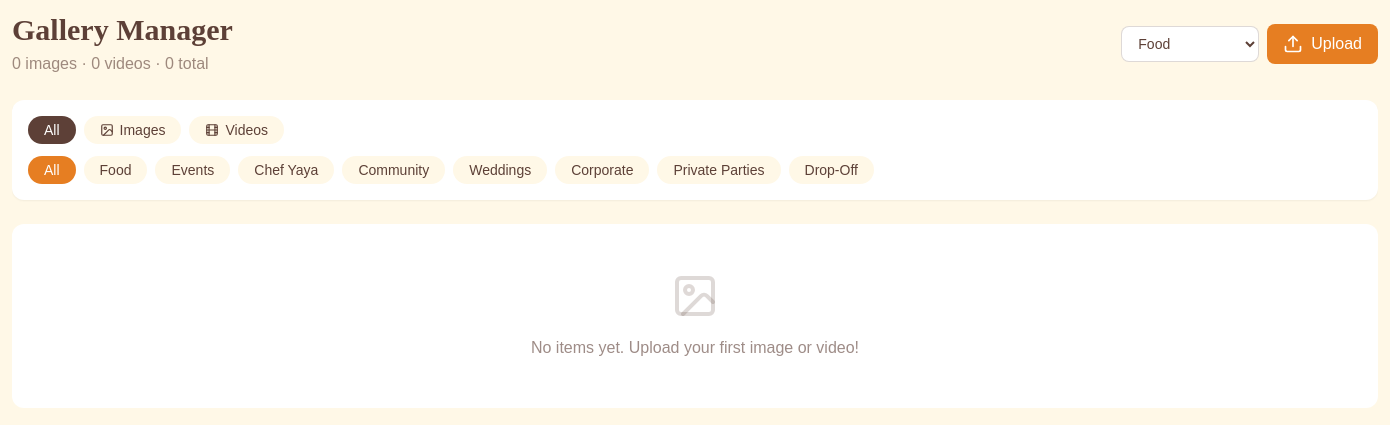
Test: Gallery Upload Categorization › syncs upload category when filter tab changes
The width and height of the screenshot is (1390, 425).
Expected: the heading "Gallery Manager" is shown, [12,12,233,48]
Click "Weddings" category tab
Click the button "Weddings" at (500, 170), box [453,156,547,184]
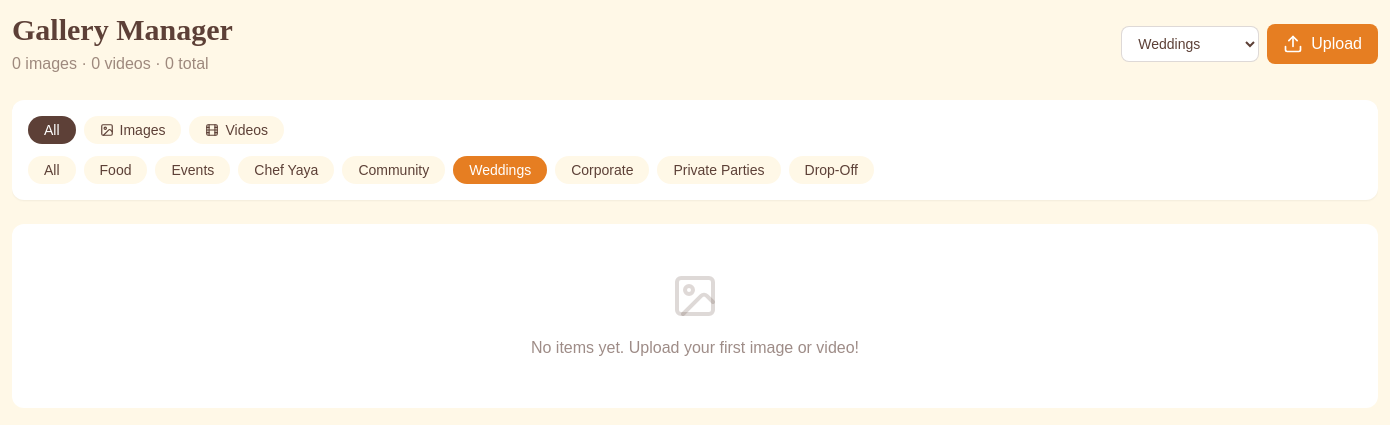
Expected: the dropdown shows "Weddings", [1121,26,1259,62]
